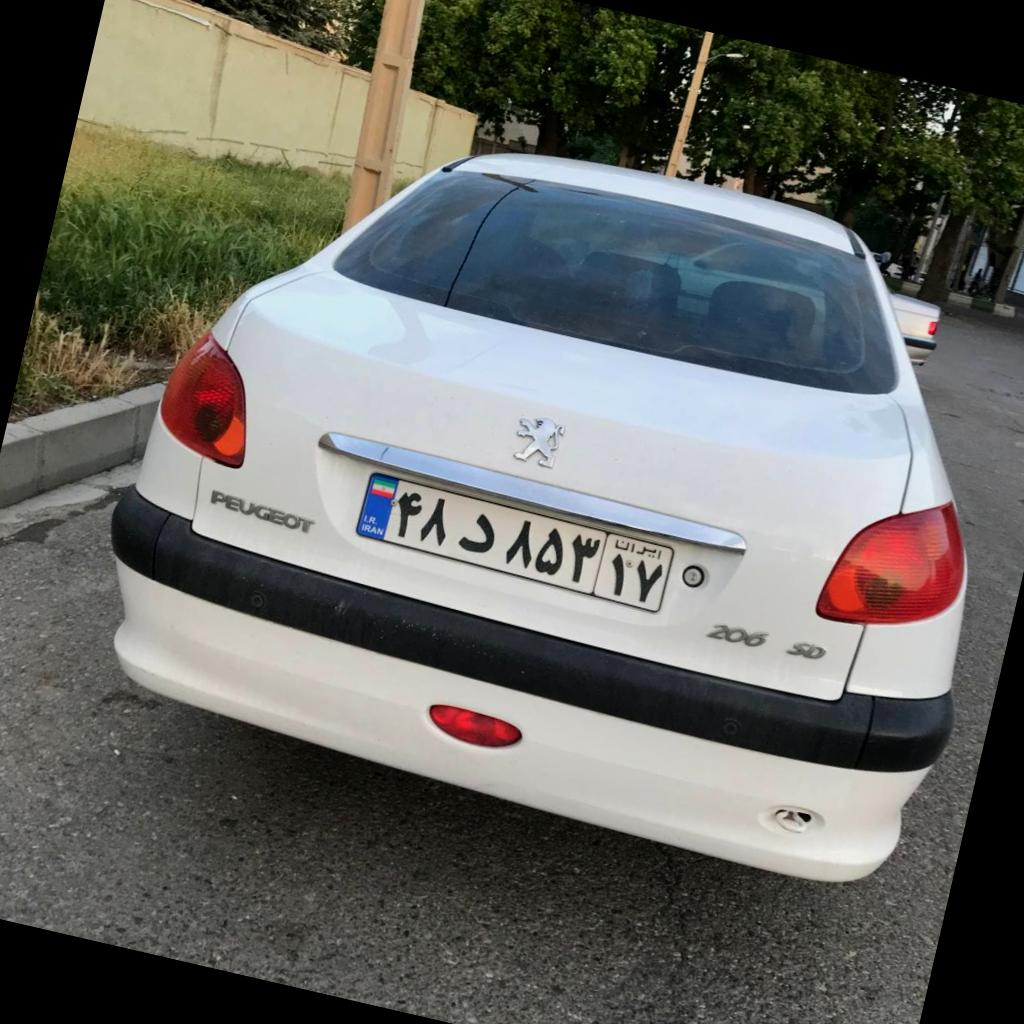Plates: (356, 473, 673, 614)
